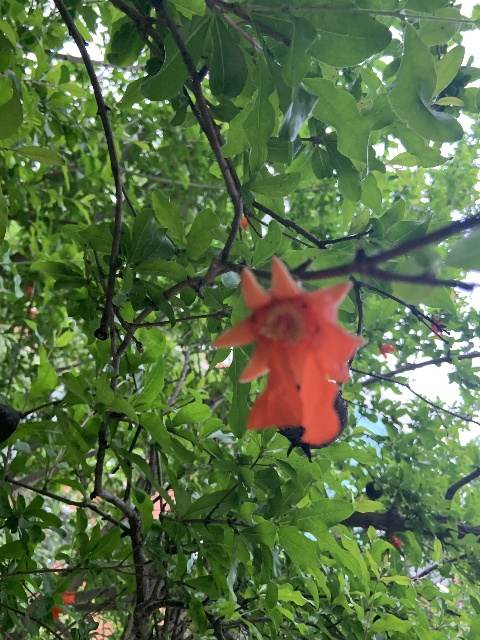flower: (212, 255, 365, 445), (51, 590, 75, 622), (377, 343, 396, 359), (430, 319, 444, 337), (389, 534, 402, 548), (240, 216, 249, 229)
